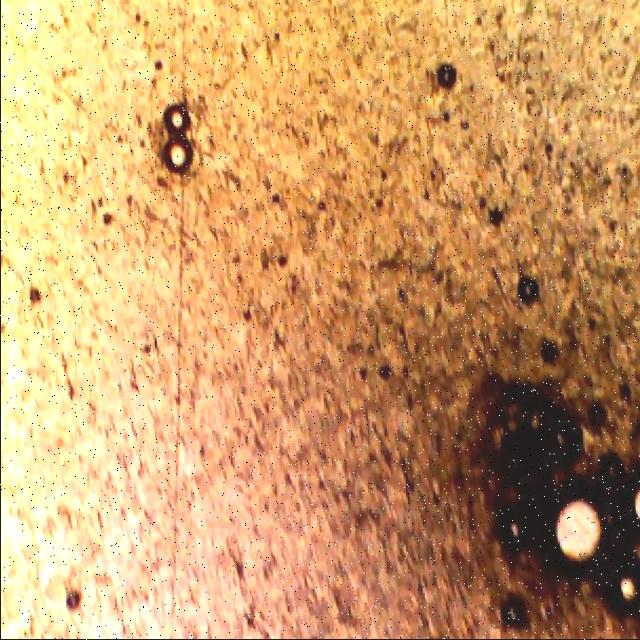microbeads: (160, 132, 194, 180), (159, 98, 191, 136)
